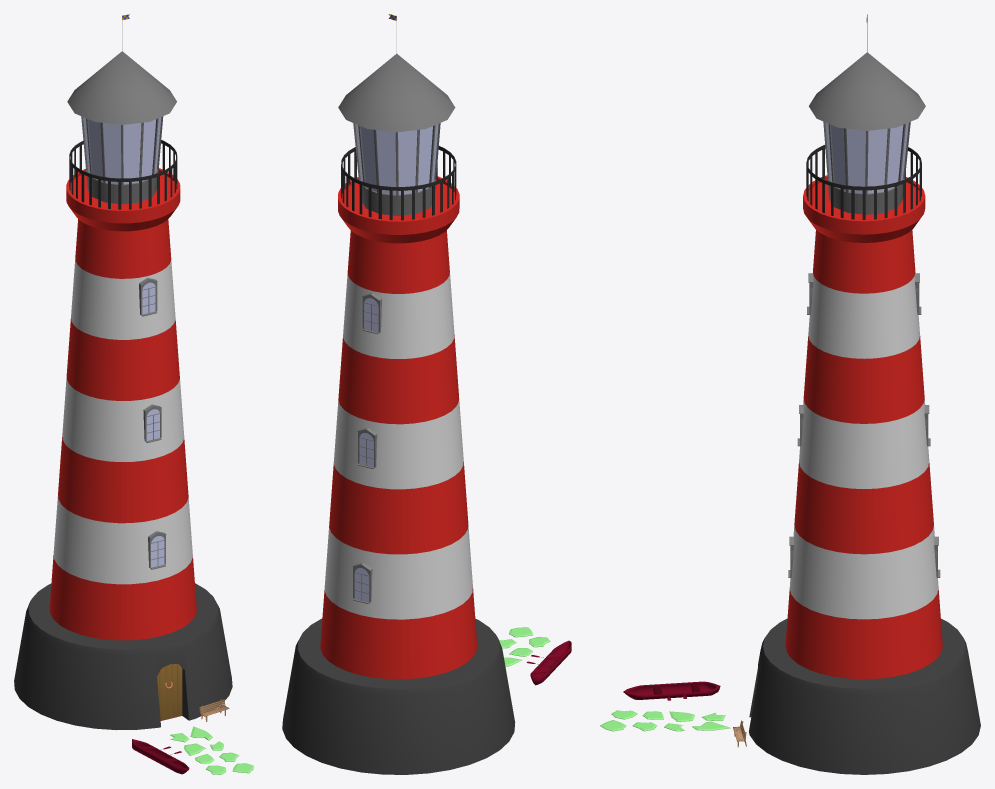
Rendered from Lighthouse01.glb.
3 views of the same model, side by side, from view 1: azimuth 30°, elevation 25°; view 2: azimuth 150°, elevation 25°; view 3: azimuth 270°, elevation 25° (orthographic). The views are drawn at different scales.
Visible parts, largest first — view 1: Lighthouse, Stonepatjh8, boat; view 2: Lighthouse, boat, Stonepatjh8; view 3: Lighthouse, Stonepatjh8, boat.
Boxes of the visible parts, left/top/right/bottom form: Lighthouse: left=14, top=14, right=232, bottom=730; Stonepatjh8: left=170, top=726, right=253, bottom=774; boat: left=132, top=739, right=189, bottom=774; Lighthouse: left=282, top=14, right=515, bottom=774; boat: left=530, top=640, right=571, bottom=685; Stonepatjh8: left=499, top=627, right=550, bottom=666; Lighthouse: left=749, top=14, right=980, bottom=774; Stonepatjh8: left=600, top=710, right=730, bottom=731; boat: left=623, top=681, right=720, bottom=699.
Bounding box in the file's own units: 1.35 × 4.54 × 2.2.
